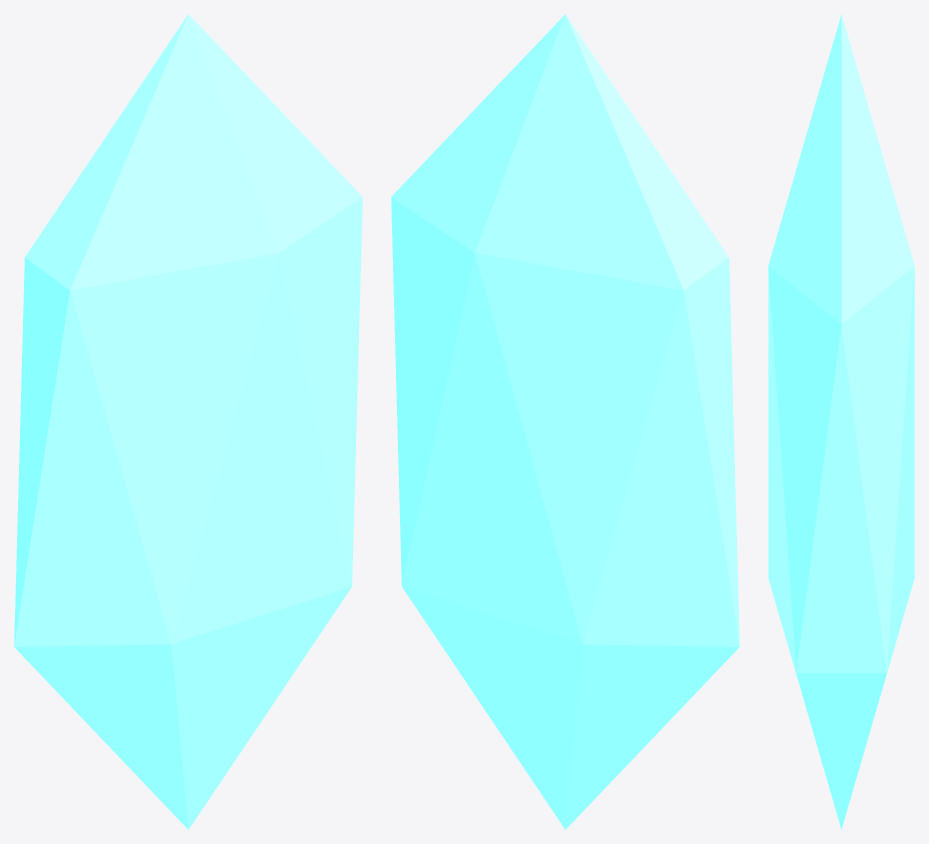
The model's file is frost_shard_c.glb.
The picture shows the model from 3 angles, left to right: view 1: azimuth 30°, elevation 25°; view 2: azimuth 150°, elevation 25°; view 3: azimuth 270°, elevation 25°; orthographic projection.
Visible parts, largest first — view 1: frost_shard_c; view 2: frost_shard_c; view 3: frost_shard_c.
Part boxes in pixels (left/top/right/bottom): frost_shard_c: left=14, top=14, right=362, bottom=829; frost_shard_c: left=391, top=14, right=739, bottom=829; frost_shard_c: left=768, top=14, right=914, bottom=829.
Bounding box in the file's own units: 0.3041 × 0.68 × 0.1106.
